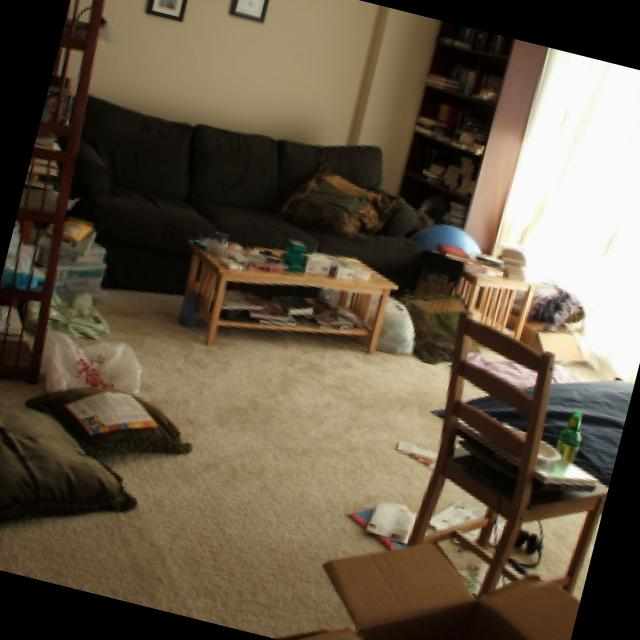mess: (0, 265, 238, 611), (413, 264, 640, 560), (120, 116, 462, 256), (412, 487, 538, 640), (358, 433, 429, 568)
